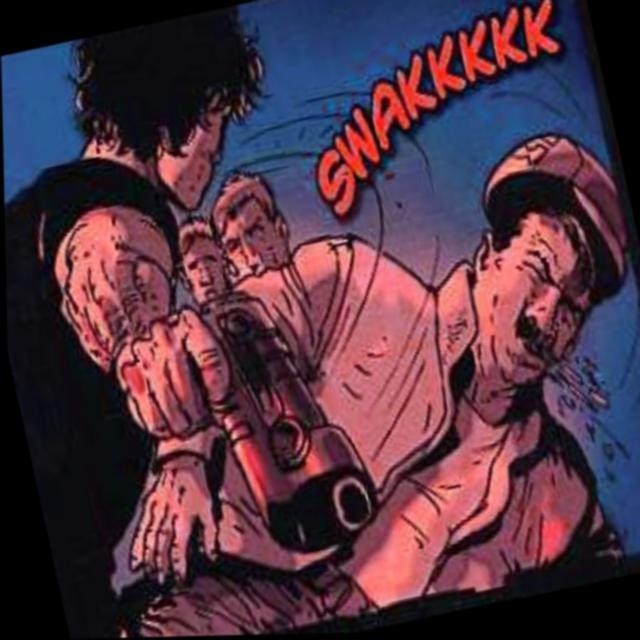weapon: (162, 190, 389, 579)
